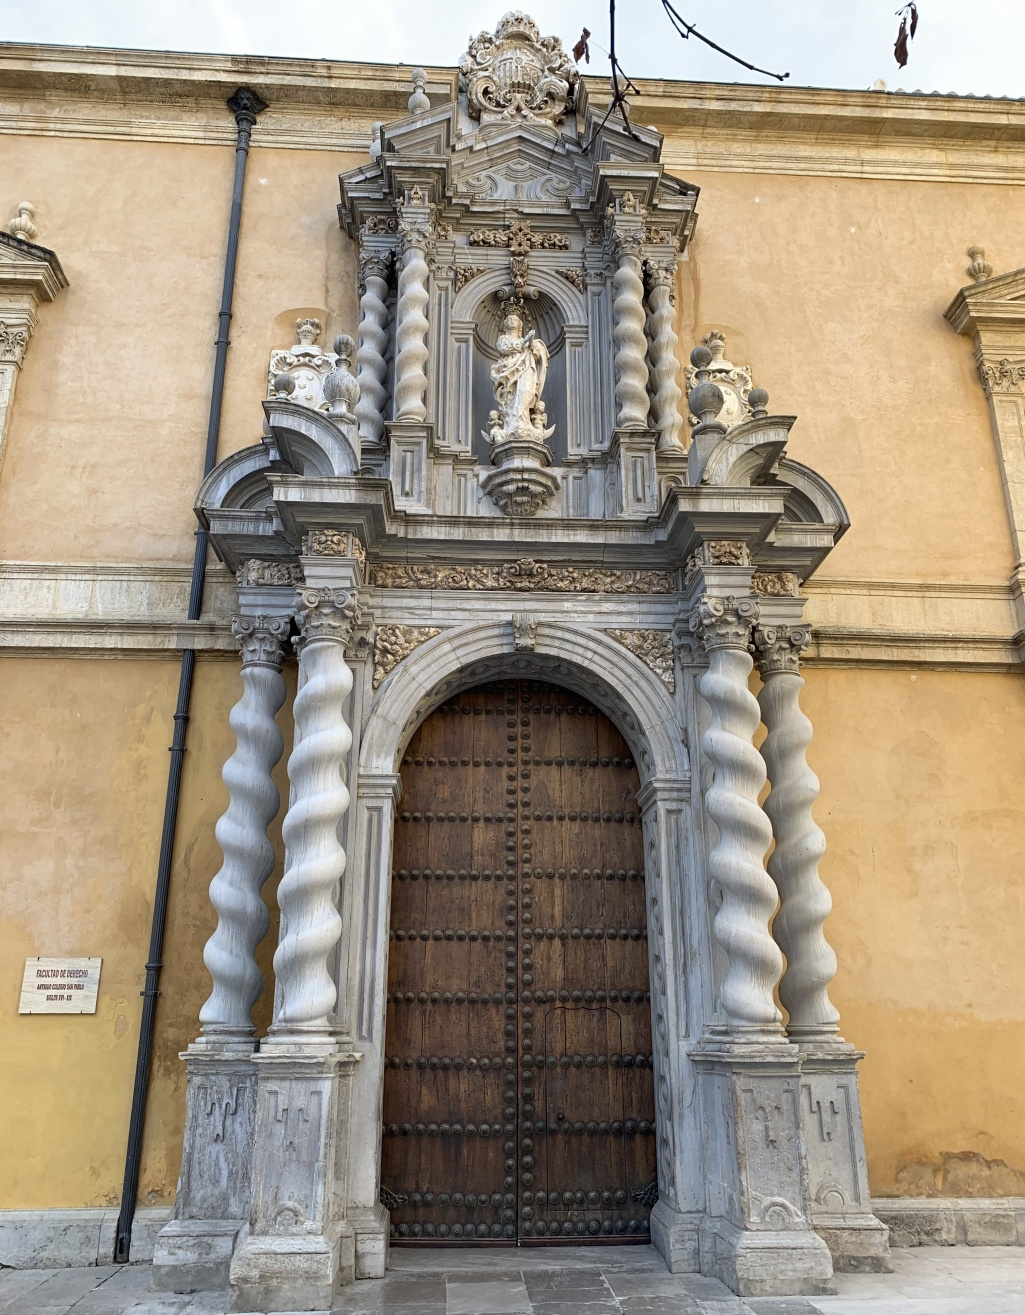arco-medio-punto: (381, 640, 671, 831)
columna-salomonica: (688, 637, 795, 1049), (198, 641, 296, 1060), (268, 636, 366, 1042), (757, 676, 849, 1025), (347, 253, 395, 461), (390, 233, 437, 440), (608, 256, 656, 440), (643, 267, 689, 454)
